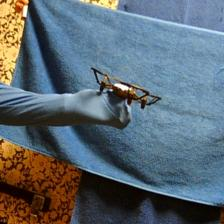drone: (90, 68, 162, 113)
